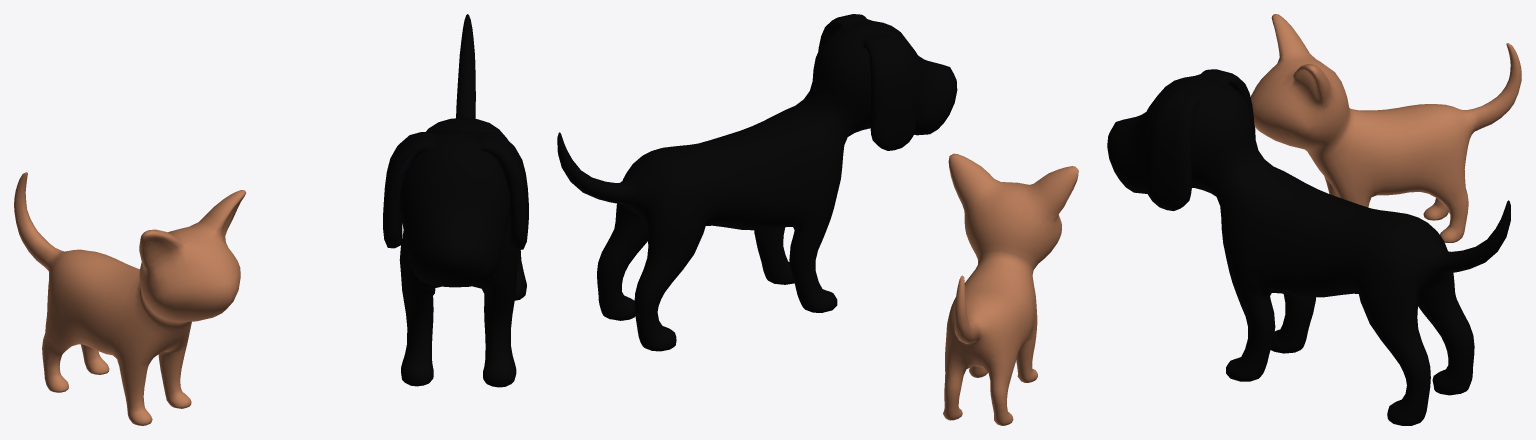
File: Sin título.glb
The picture shows the model from 3 angles, left to right: view 1: azimuth 30°, elevation 25°; view 2: azimuth 150°, elevation 25°; view 3: azimuth 270°, elevation 25°; orthographic projection. The views are drawn at different scales.
Visible parts, largest first — view 1: mesh_id29, mesh_id27; view 2: mesh_id29, mesh_id27; view 3: mesh_id29, mesh_id27.
Boxes of the visible parts, <box> form: mesh_id29: <box>383,14,528,387</box>; mesh_id27: <box>14,172,245,425</box>; mesh_id29: <box>557,14,957,351</box>; mesh_id27: <box>943,153,1078,425</box>; mesh_id29: <box>1107,69,1510,425</box>; mesh_id27: <box>1250,14,1521,242</box>.
Size of the model in its own units: 0.3112 by 0.1796 by 0.2544.
2 materials, 2 textured.
